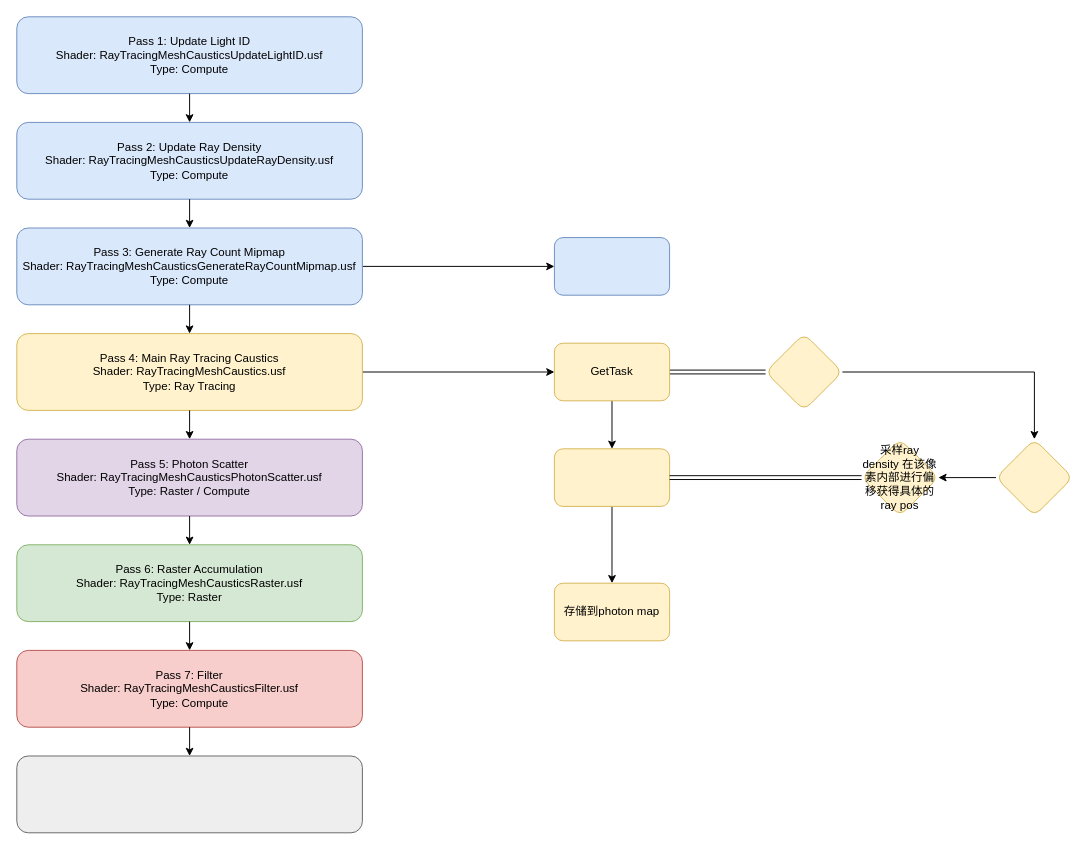
The diagram is 1090 pixels wide and 850 high, and some of its shapes have lost their labels. Here are the shapes that lost their labels. From the top down, the centre of each, then its label:
At pixel 611 266: "根据ray density 生成task ID".
At pixel 803 371: "线程索引采样二叉树获得像素位置".
At pixel 611 477: "从光源 发射光线".
At pixel 1034 477: "查询light ID buffer获得光源信息".
At pixel 189 794: "Pass 8: Debug (Optional) Shader: RayTracingMeshCausticsDebug.usf Type: Debug".
